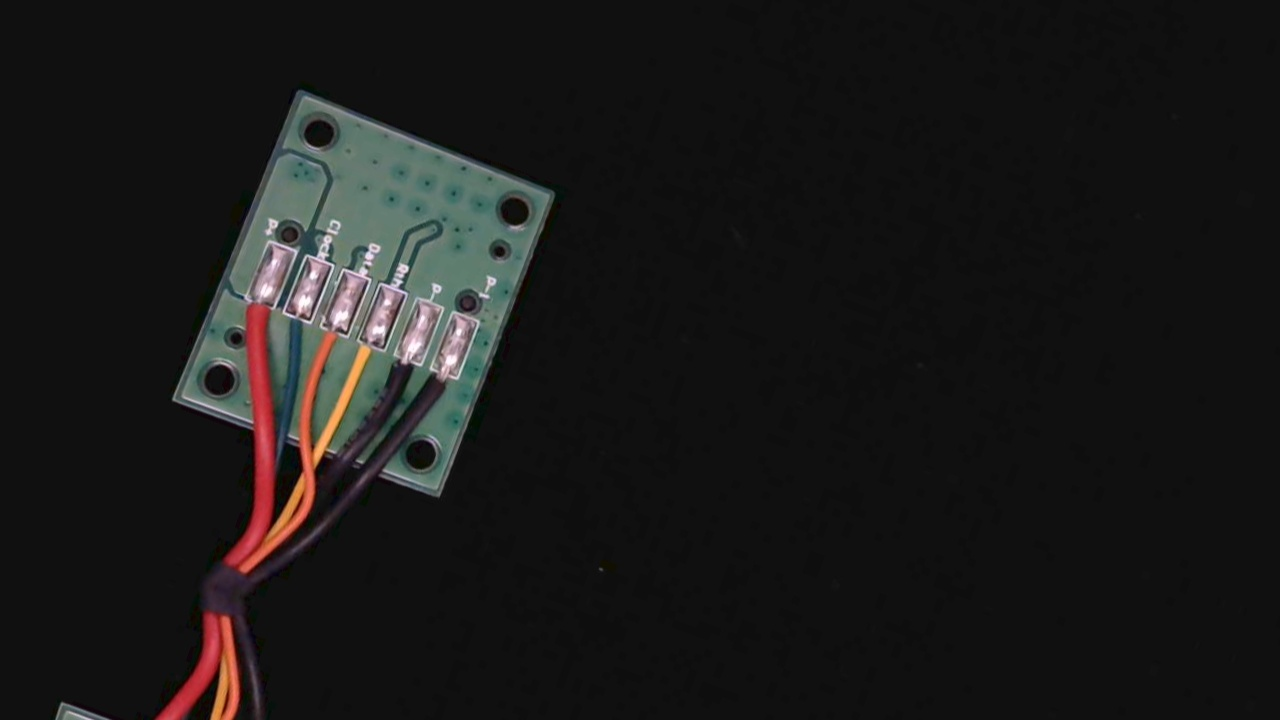Black: (374, 339, 425, 412)
Black1: (413, 351, 467, 425)
Green: (267, 293, 318, 362)
Orange: (299, 308, 354, 387)
Red: (230, 279, 280, 344)
Yellow: (334, 322, 392, 403)
